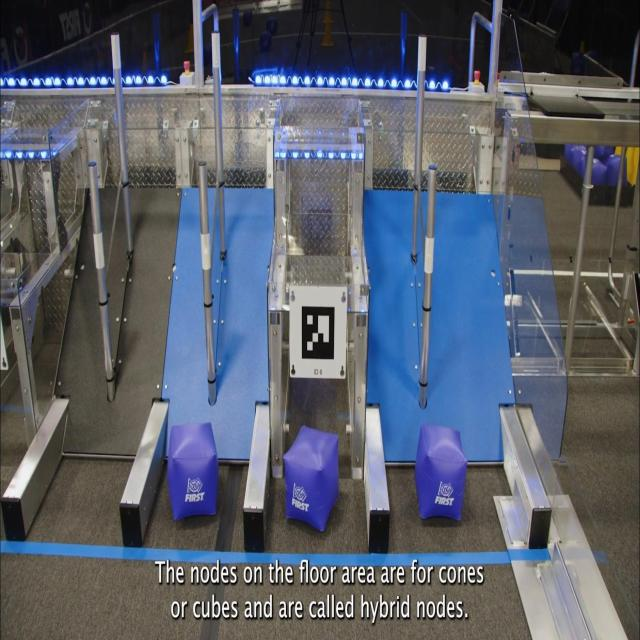frc_cone: (622, 144, 635, 186), (630, 142, 640, 182)
frc_cube: (282, 426, 338, 534), (415, 422, 467, 522), (167, 423, 217, 517), (604, 154, 626, 189), (584, 156, 606, 189), (590, 139, 615, 157), (572, 144, 588, 172), (564, 137, 580, 160)
